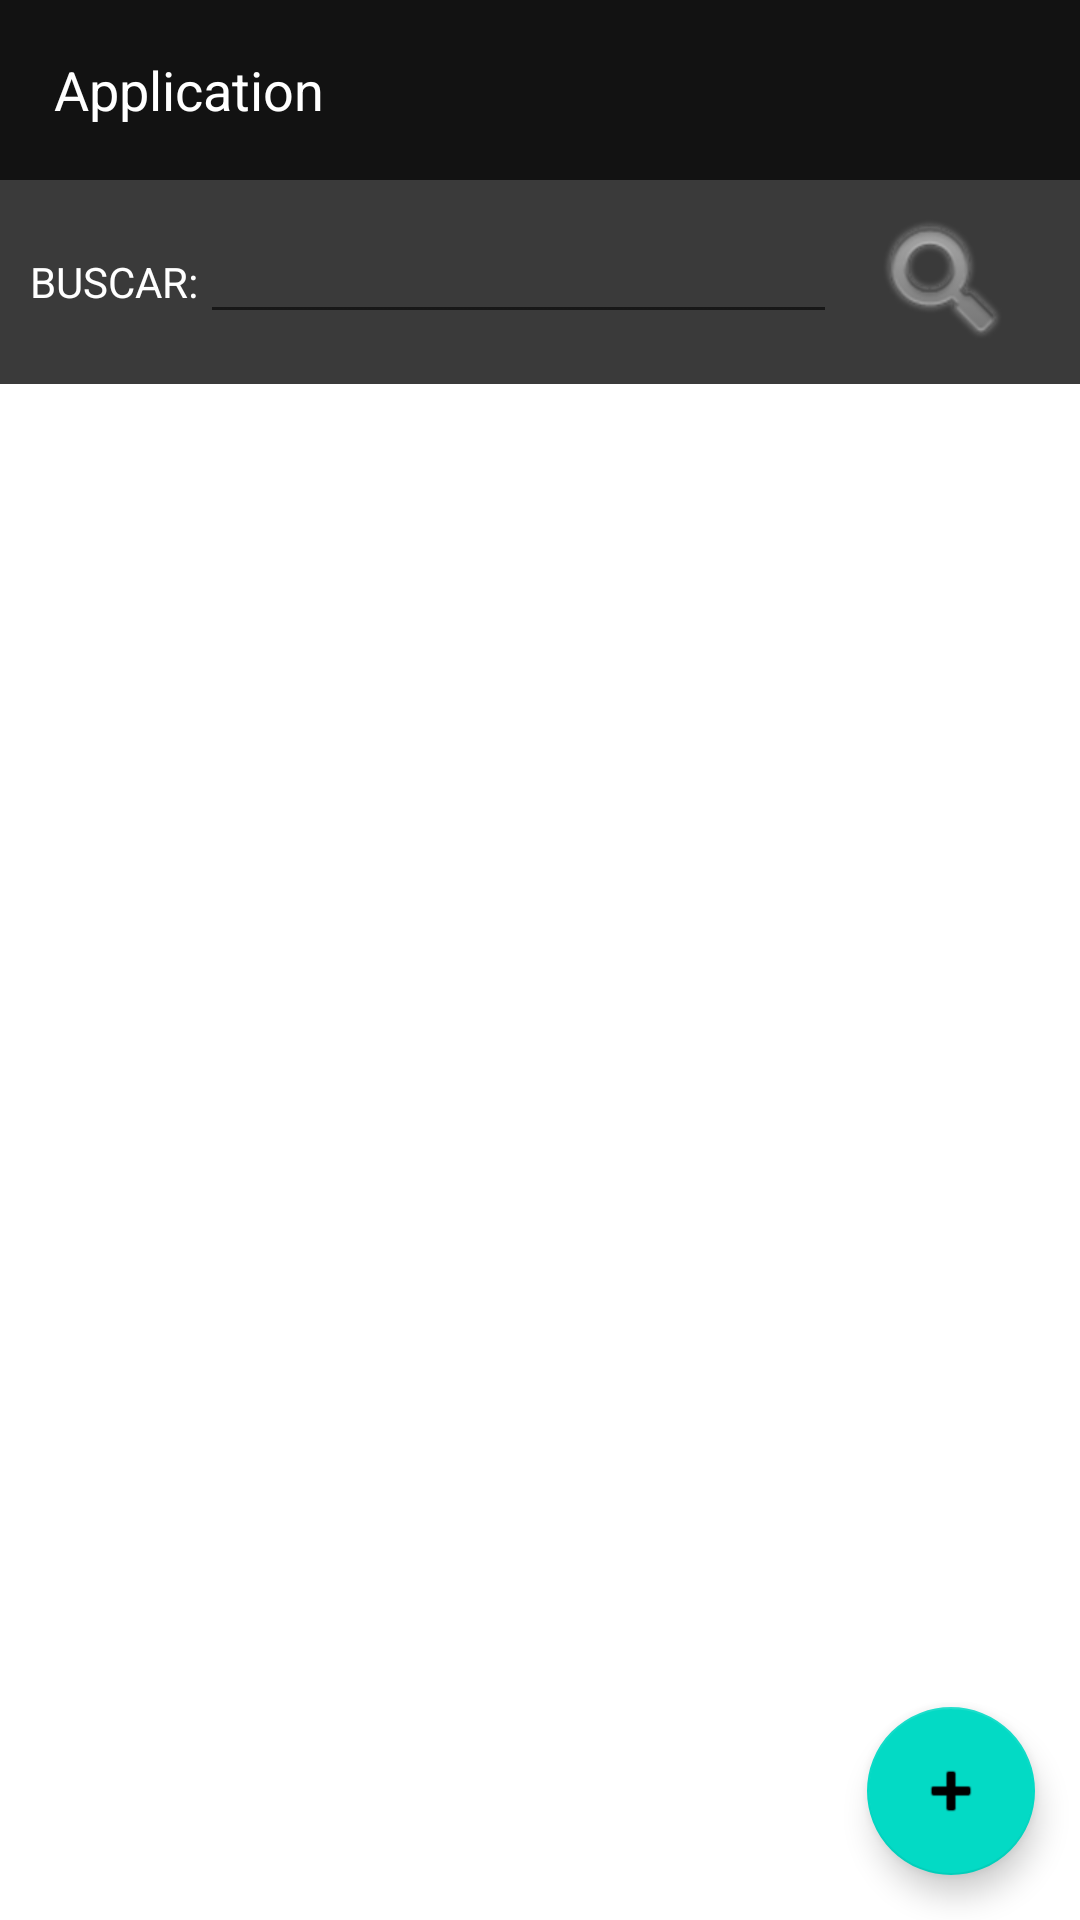

Named icons in this screenshot (1080 x 1920) and their centers, (x=x, y=y):
add: (x=951, y=1791)
